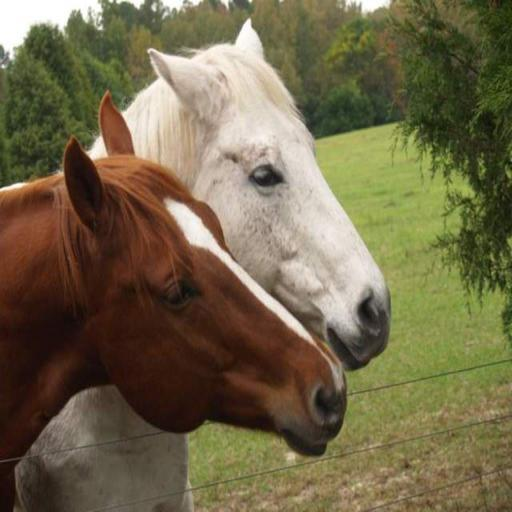horse: (14, 17, 393, 511)
